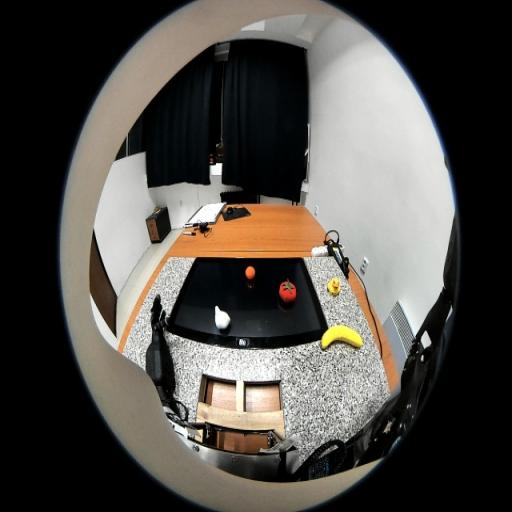Banana: (321, 324, 363, 350)
Duck: (327, 277, 341, 296)
LeftHand: (152, 314, 164, 334)
Onion: (215, 306, 231, 330)
Orange: (246, 265, 256, 280)
Tomato: (279, 278, 297, 302)
